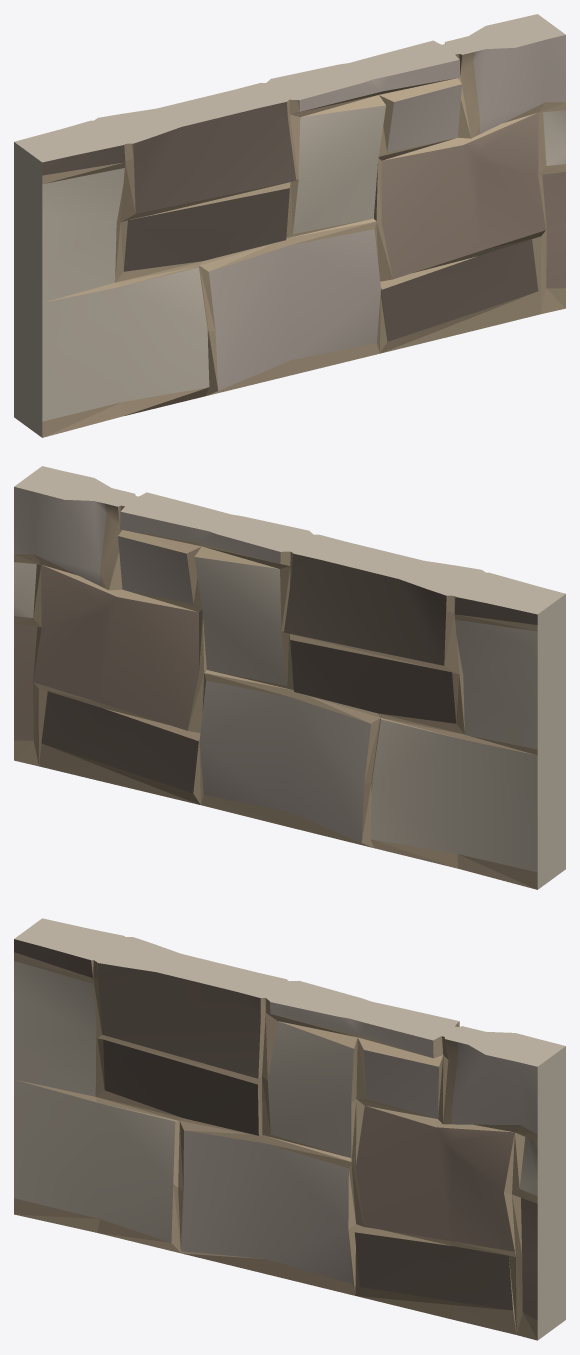
File: RG-Dungeon_small_Wall-03.fbx
3 views of the same model, one above another, from view 1: azimuth 30°, elevation 25°; view 2: azimuth 150°, elevation 25°; view 3: azimuth 330°, elevation 25° (orthographic).
Parts seen in each view (by area): view 1: RG-Dungeon_small_Wall-03; view 2: RG-Dungeon_small_Wall-03; view 3: RG-Dungeon_small_Wall-03.
Boxes of the visible parts, bbox=[...] form: RG-Dungeon_small_Wall-03: bbox=[14, 14, 565, 437]; RG-Dungeon_small_Wall-03: bbox=[14, 466, 565, 889]; RG-Dungeon_small_Wall-03: bbox=[14, 918, 565, 1340].
Size of the model in its own units: 20 by 10.05 by 2.51.
